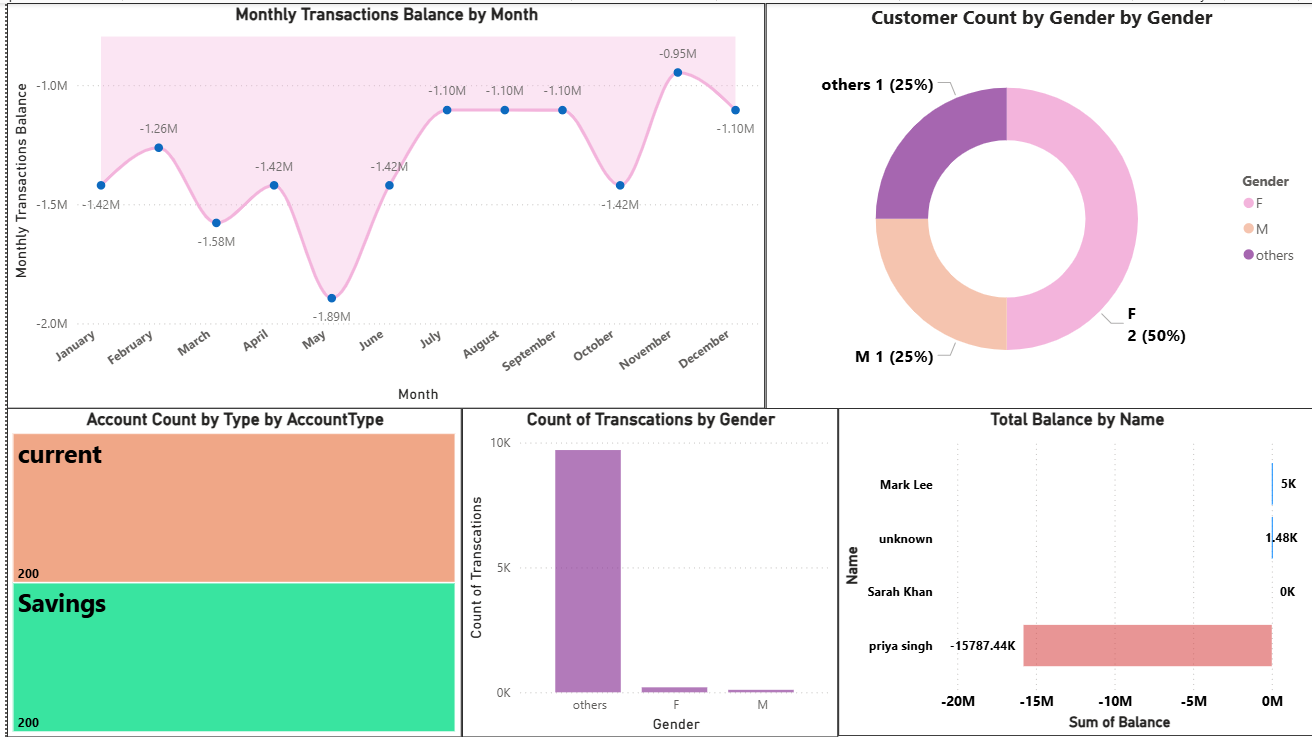

This screenshot's page, from the dashboard's own definition file:
{"tool":"powerbi","page":{"name":"Page 2","canvas":[1280,720],"ordinal":1},"visuals":[{"type":"donutChart","fields":{"Y":["Measures Table.Customer Count by Gender"],"Category":["CombinedBankingDataset.Gender"]},"box":[741.7,0,538.3,398.3],"z":0},{"type":"clusteredColumnChart","fields":{"Category":["CombinedBankingDataset.Gender"],"Y":["Measures Table.Count of Transcations"]},"box":[445,396.7,368.3,323.3],"z":1000},{"type":"treemap","title":"Account Count by Type by AccountType","fields":{"Group":["CombinedBankingDataset.AccountType"],"Values":["CountNonNull(CombinedBankingDataset.AccountType)"]},"box":[0,396.7,445,323.3],"z":2000},{"type":"barChart","title":"Total Balance by Name","fields":{"Category":["CombinedBankingDataset.Name"],"Y":["Sum(CombinedBankingDataset.Balance)"]},"box":[813.3,396.7,466.7,321.7],"z":3000},{"type":"lineChart","fields":{"Category":["CombinedBankingDataset.TransactionDate.Variation.Date Hierarchy.Month"],"Y":["Measures Table.Monthly Transactions Balance"]},"box":[0,0,741.7,396.7],"z":4000}]}

Visuals, with their boxes in screenshot pixels (x1, y1, x2, y2), scaled from the page's 1280x720 canvas onto the 1312x737 screenshot:
donutChart - Measures Table.Customer Count by Gender x CombinedBankingDataset.Gender: crop(760, 0, 1311, 408)
clusteredColumnChart - CombinedBankingDataset.Gender x Measures Table.Count of Transcations: crop(456, 406, 834, 736)
"Account Count by Type by AccountType" treemap: crop(0, 406, 456, 736)
"Total Balance by Name" barChart: crop(834, 406, 1311, 735)
lineChart - CombinedBankingDataset.TransactionDate.Variation.Date Hierarchy.Month x Measures Table.Monthly Transactions Balance: crop(0, 0, 760, 406)
